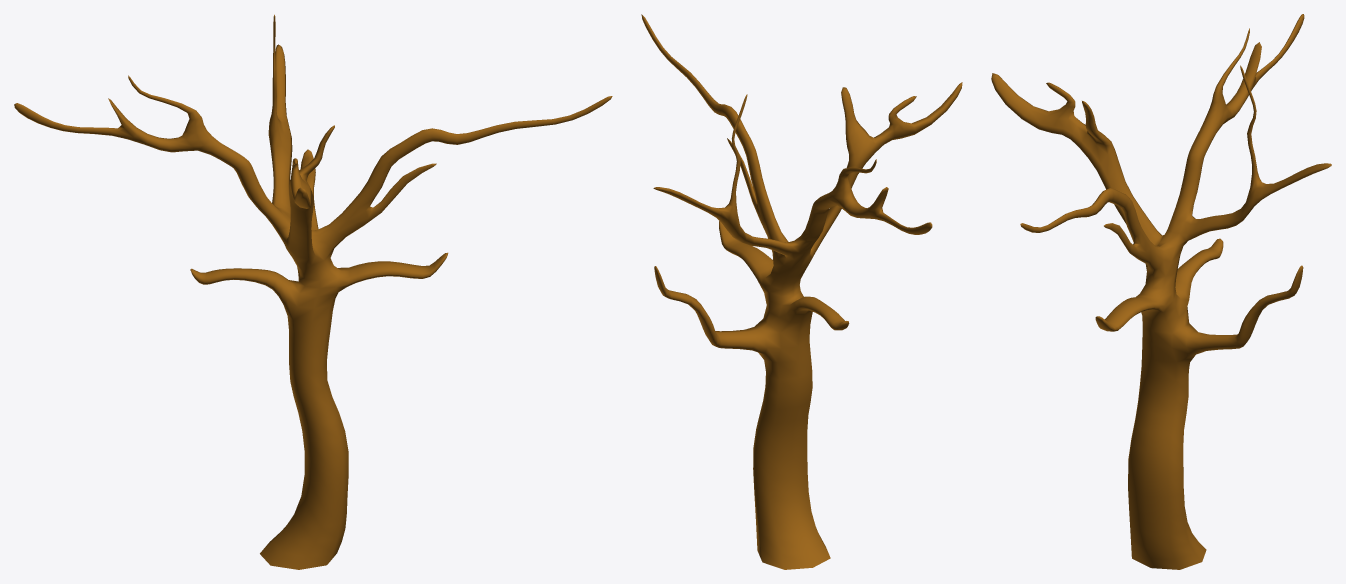
Rendered from Tree.glb.
3 renders of one model, left to right at view 1: azimuth 30°, elevation 25°; view 2: azimuth 150°, elevation 25°; view 3: azimuth 270°, elevation 25°, orthographic. The views are drawn at different scales.
Visible parts, largest first — view 1: Joined__0; view 2: Joined__0; view 3: Joined__0.
Part boxes in pixels (x1,y1,x2,y2): Joined__0: (14,14,612,569); Joined__0: (641,14,962,569); Joined__0: (991,14,1331,569).
Bounding box in the file's own units: 135 × 145 × 90.15.
